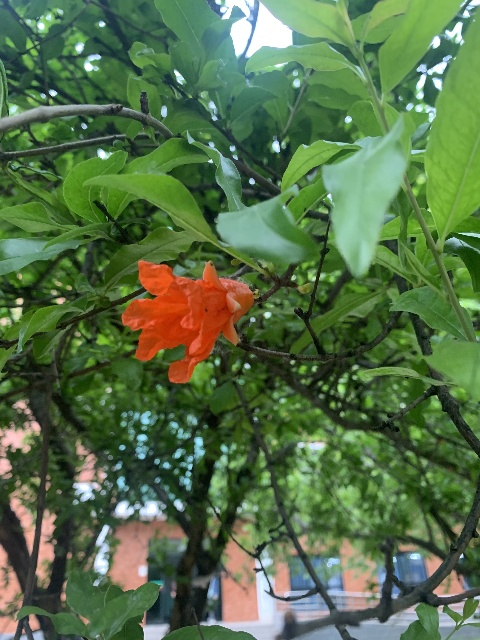flower: (121, 259, 253, 383)
